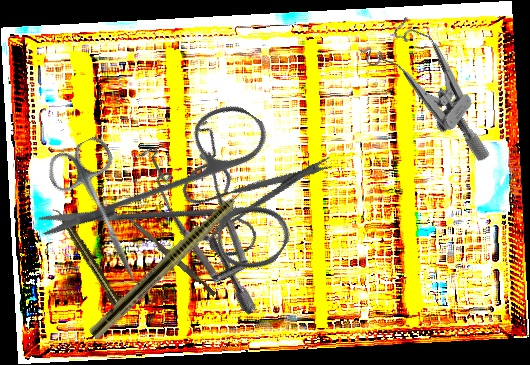Handpiece: (87, 167, 269, 343), (51, 204, 126, 313)
Iris Scissors: (33, 48, 336, 350), (163, 102, 337, 282), (41, 133, 167, 295)
Pusher: (120, 213, 219, 297)
Speculum: (102, 100, 330, 317), (349, 5, 526, 165)
